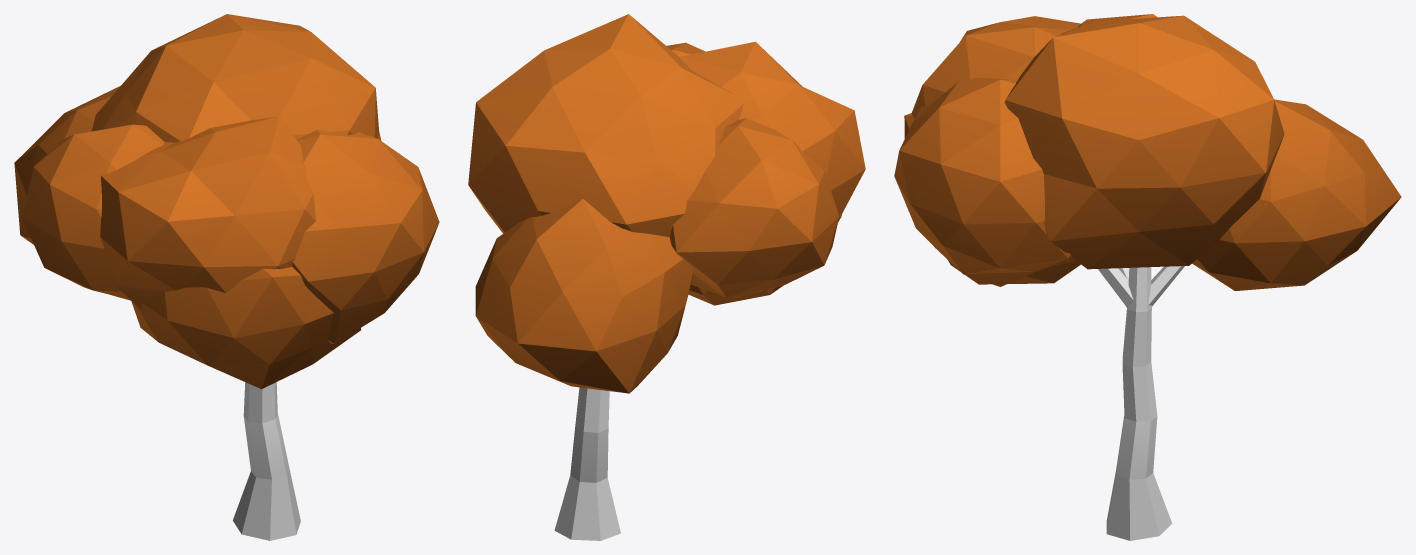
The model's file is tree_autumn.glb.
3 views of the same model, side by side, from view 1: azimuth 30°, elevation 25°; view 2: azimuth 150°, elevation 25°; view 3: azimuth 270°, elevation 25° (orthographic). The views are drawn at different scales.
Visible parts, largest first — view 1: Canopy_deco, Trunk; view 2: Canopy_deco, Trunk; view 3: Canopy_deco, Trunk.
Boxes of the visible parts, x1,y1,x2,y2 form: Canopy_deco: [14, 14, 439, 389]; Trunk: [233, 382, 300, 540]; Canopy_deco: [468, 14, 865, 393]; Trunk: [554, 387, 620, 540]; Canopy_deco: [894, 14, 1401, 290]; Trunk: [1098, 266, 1184, 540].
Size of the model in its own units: 4.83 by 7.06 by 6.57.
